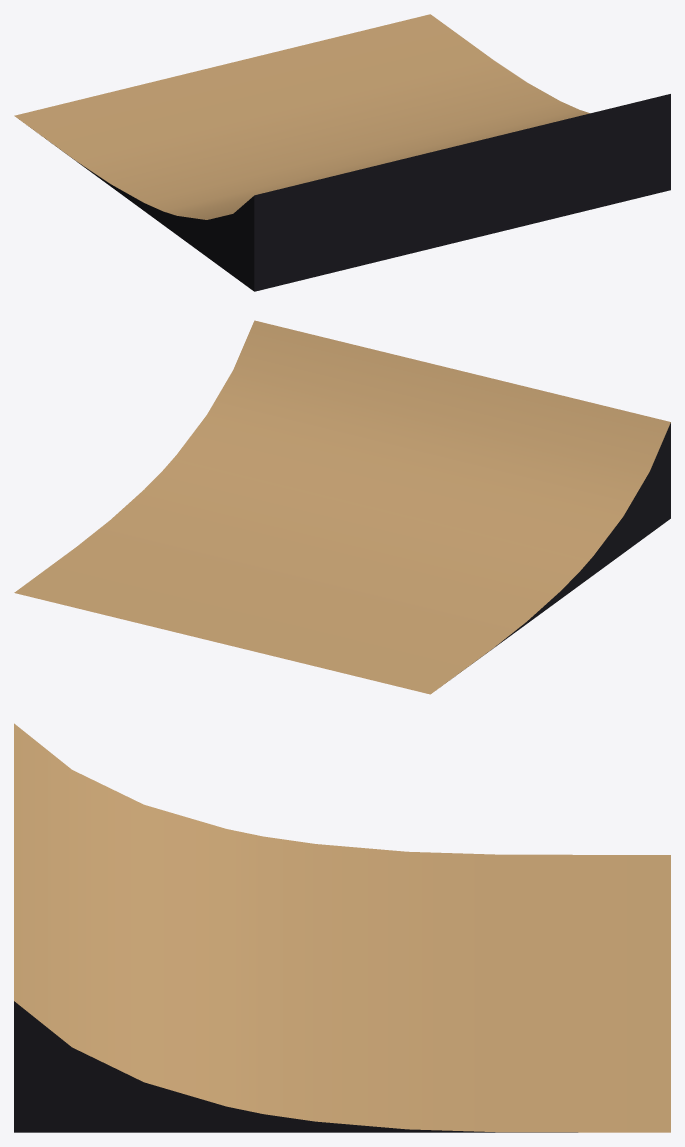
File: Quater_SML_Kicker_Full.fbx
The picture shows the model from 3 angles, top to bottom: view 1: azimuth 30°, elevation 25°; view 2: azimuth 150°, elevation 25°; view 3: azimuth 270°, elevation 25°; orthographic projection. The views are drawn at different scales.
Visible parts, largest first — view 1: Quater_SML_Kicker_Full; view 2: Quater_SML_Kicker_Full; view 3: Quater_SML_Kicker_Full.
Boxes of the visible parts, <box> form: Quater_SML_Kicker_Full: <box>14,14,670,291</box>; Quater_SML_Kicker_Full: <box>14,320,670,694</box>; Quater_SML_Kicker_Full: <box>14,723,670,1132</box>.
Size of the model in its own units: 10 by 2.21 by 10.
